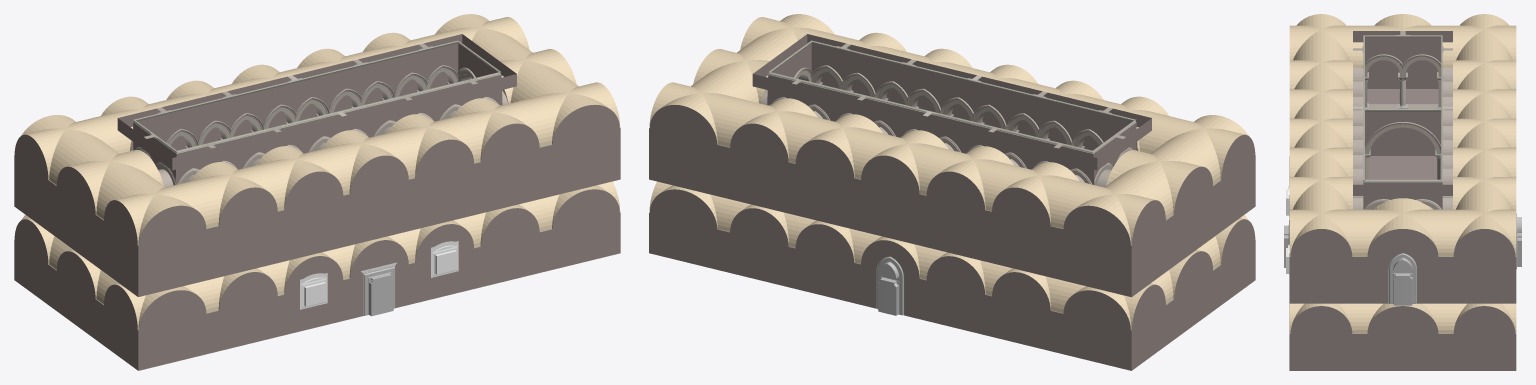
The model's file is sponza.obj.
3 renders of one model, left to right at view 1: azimuth 30°, elevation 25°; view 2: azimuth 150°, elevation 25°; view 3: azimuth 270°, elevation 25°, orthographic. The views are drawn at different scales.
Parts seen in each view (by area): view 1: sponza; view 2: sponza; view 3: sponza.
Part boxes in pixels (left/top/right/bottom): sponza: left=14, top=14, right=620, bottom=370; sponza: left=649, top=14, right=1255, bottom=370; sponza: left=1284, top=14, right=1521, bottom=370.
Size of the model in its own units: 32.78 by 10.96 by 15.17.
